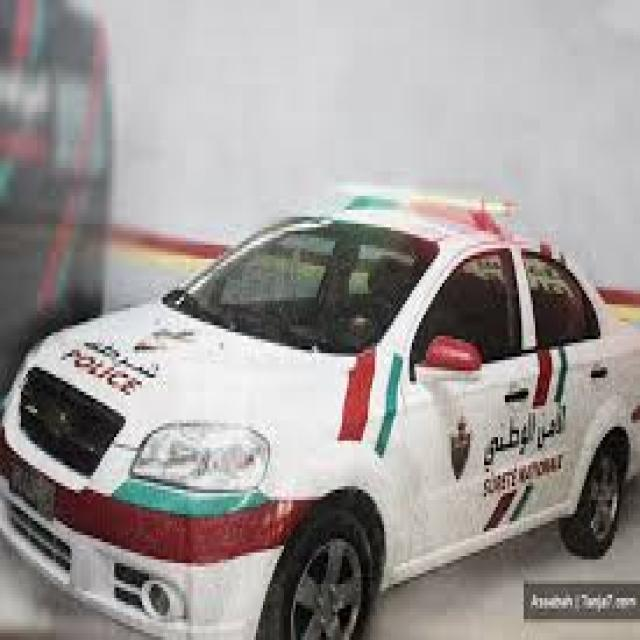police: (3, 188, 640, 639)
